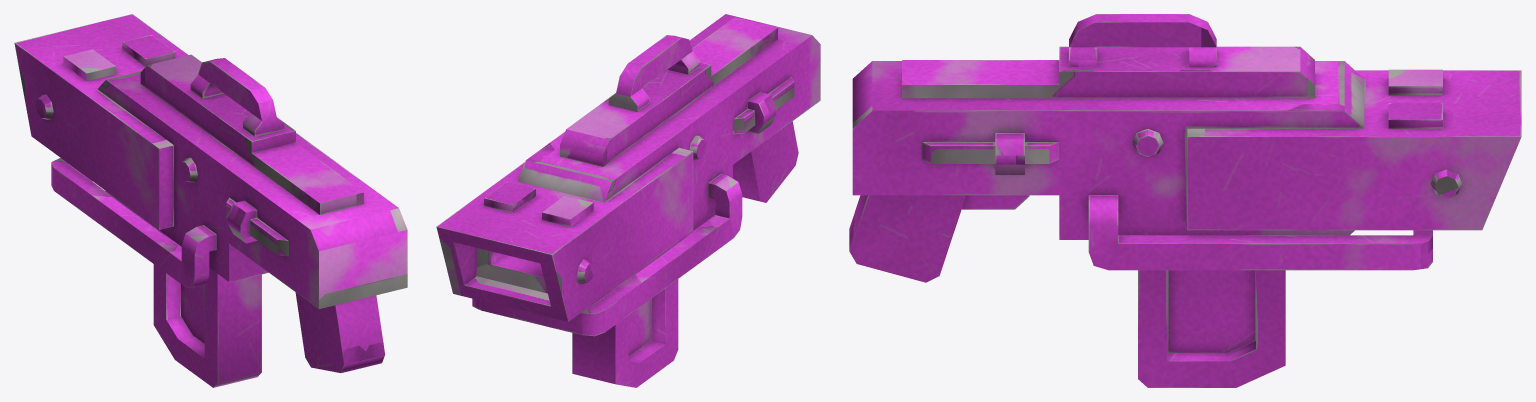
The model's file is blaster-r.glb.
The picture shows the model from 3 angles, left to right: view 1: azimuth 30°, elevation 25°; view 2: azimuth 150°, elevation 25°; view 3: azimuth 270°, elevation 25°; orthographic projection. The views are drawn at different scales.
Parts seen in each view (by area): view 1: blaster-r, magazine; view 2: blaster-r, magazine; view 3: blaster-r, magazine.
Boxes of the visible parts, x1,y1,x2,y2 form: blaster-r: [14, 14, 407, 372]; magazine: [153, 264, 261, 387]; blaster-r: [436, 14, 820, 336]; magazine: [572, 279, 678, 387]; blaster-r: [849, 14, 1521, 282]; magazine: [1138, 270, 1285, 387].
Bounding box in the file's own units: 0.18 × 0.4009 × 0.6834.
1 material, 1 textured.
